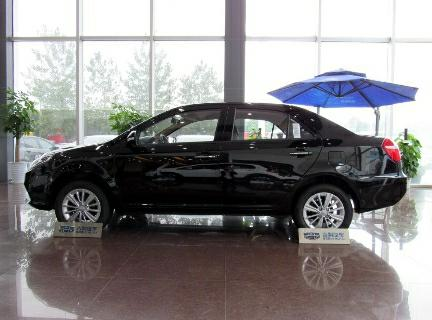car: (19, 100, 418, 248)
